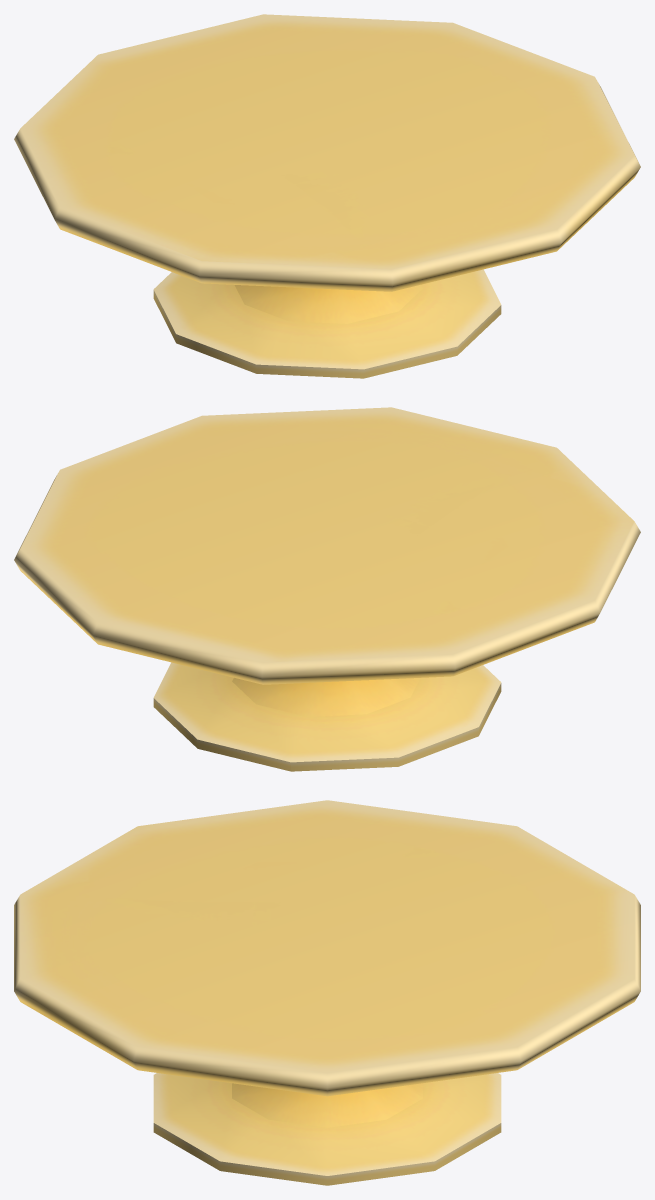
The model's file is Yellow_Display_Large.fbx.
3 renders of one model, top to bottom at view 1: azimuth 30°, elevation 25°; view 2: azimuth 150°, elevation 25°; view 3: azimuth 270°, elevation 25°, orthographic. The views are drawn at different scales.
Parts seen in each view (by area): view 1: Yellow_Display_Large; view 2: Yellow_Display_Large; view 3: Yellow_Display_Large.
Boxes of the visible parts, x1,y1,x2,y2 form: Yellow_Display_Large: (14, 14, 640, 378); Yellow_Display_Large: (14, 407, 640, 771); Yellow_Display_Large: (14, 800, 640, 1185).
Bounding box in the file's own units: 107 × 30.75 × 102.
